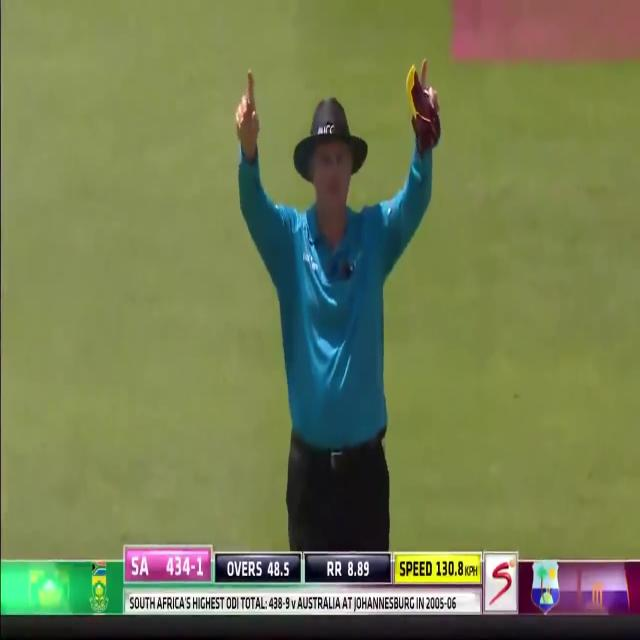Umpire: (225, 63, 454, 551)
